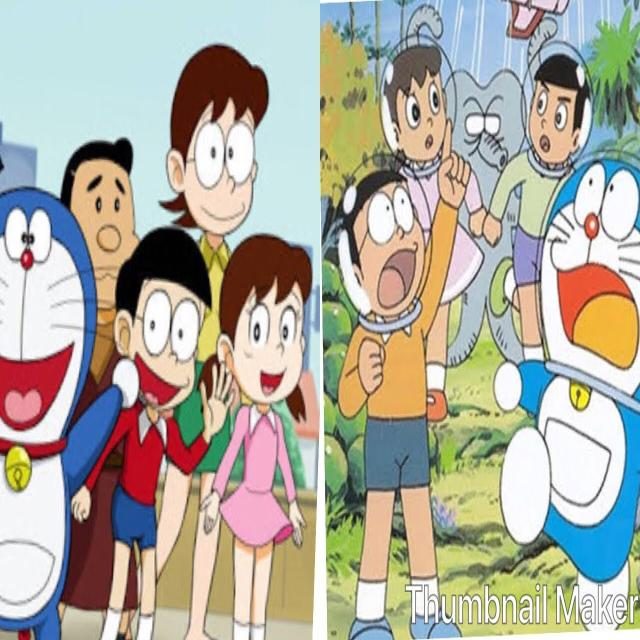doraemon: (536, 145, 640, 401)
nobita: (110, 217, 212, 429), (342, 171, 436, 337)
shizuka: (216, 228, 320, 422), (378, 40, 452, 170)
